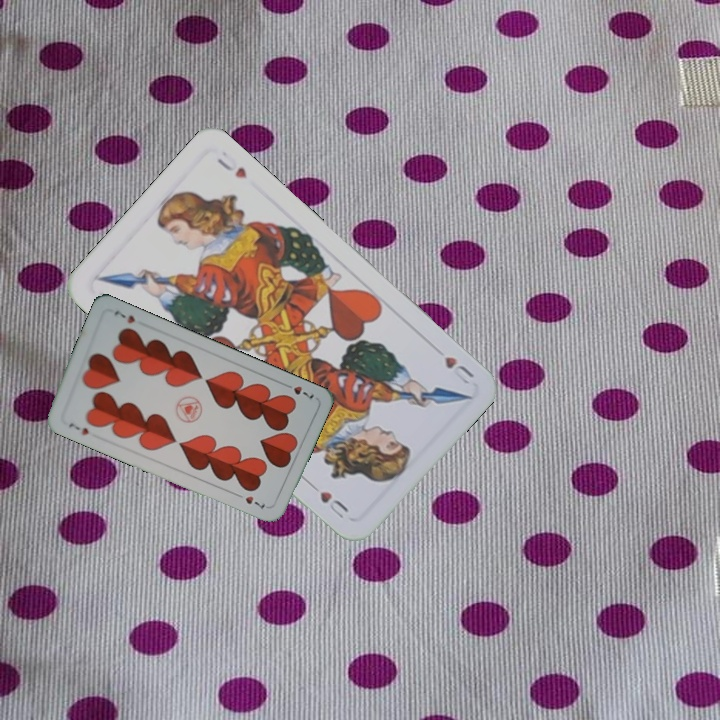H7: (279, 379, 317, 401), (64, 418, 91, 438)
HU: (440, 352, 477, 387)
